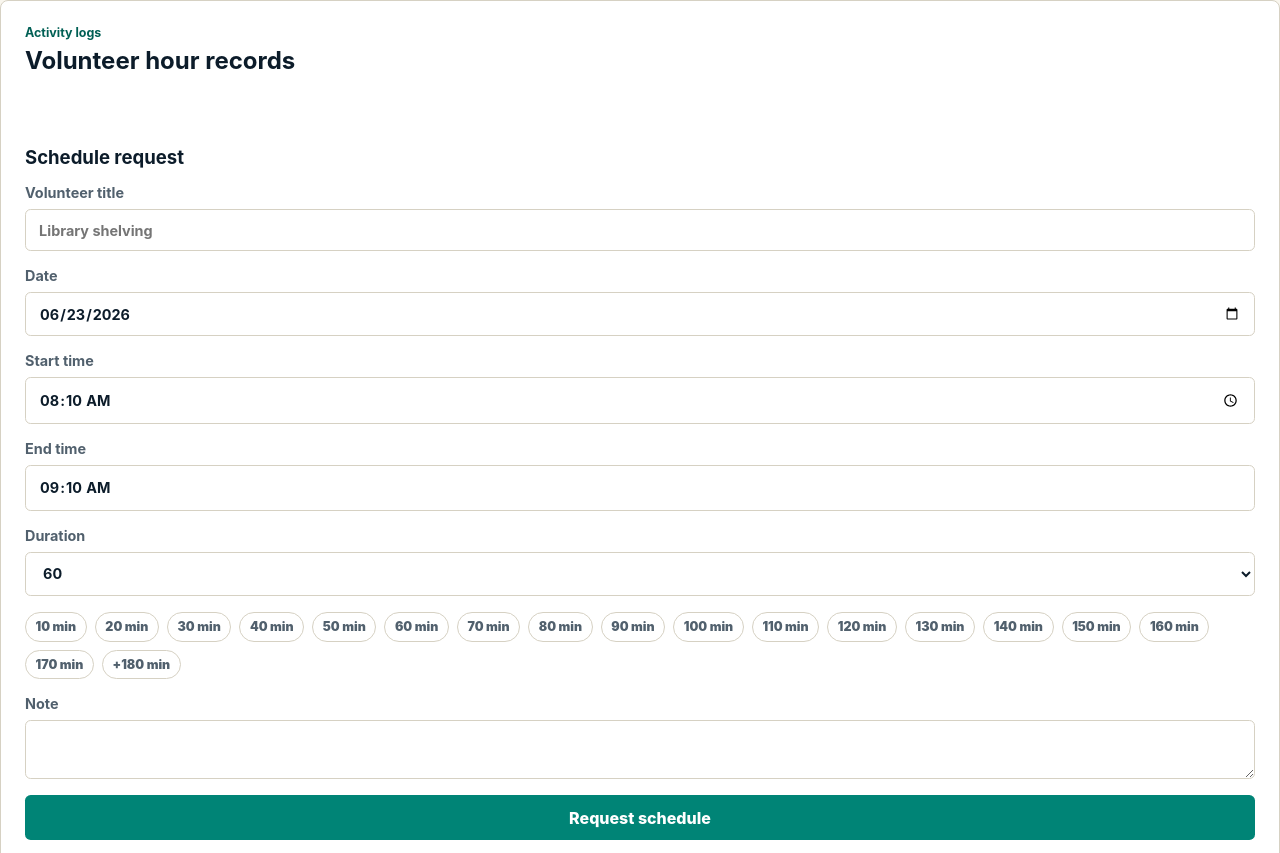
Test: ActivityLogsScreen › does not submit a schedule request without a title
Step 1. Click the button "Request schedule" → [640, 818], box top-left (25, 795), bottom-right (1255, 840)
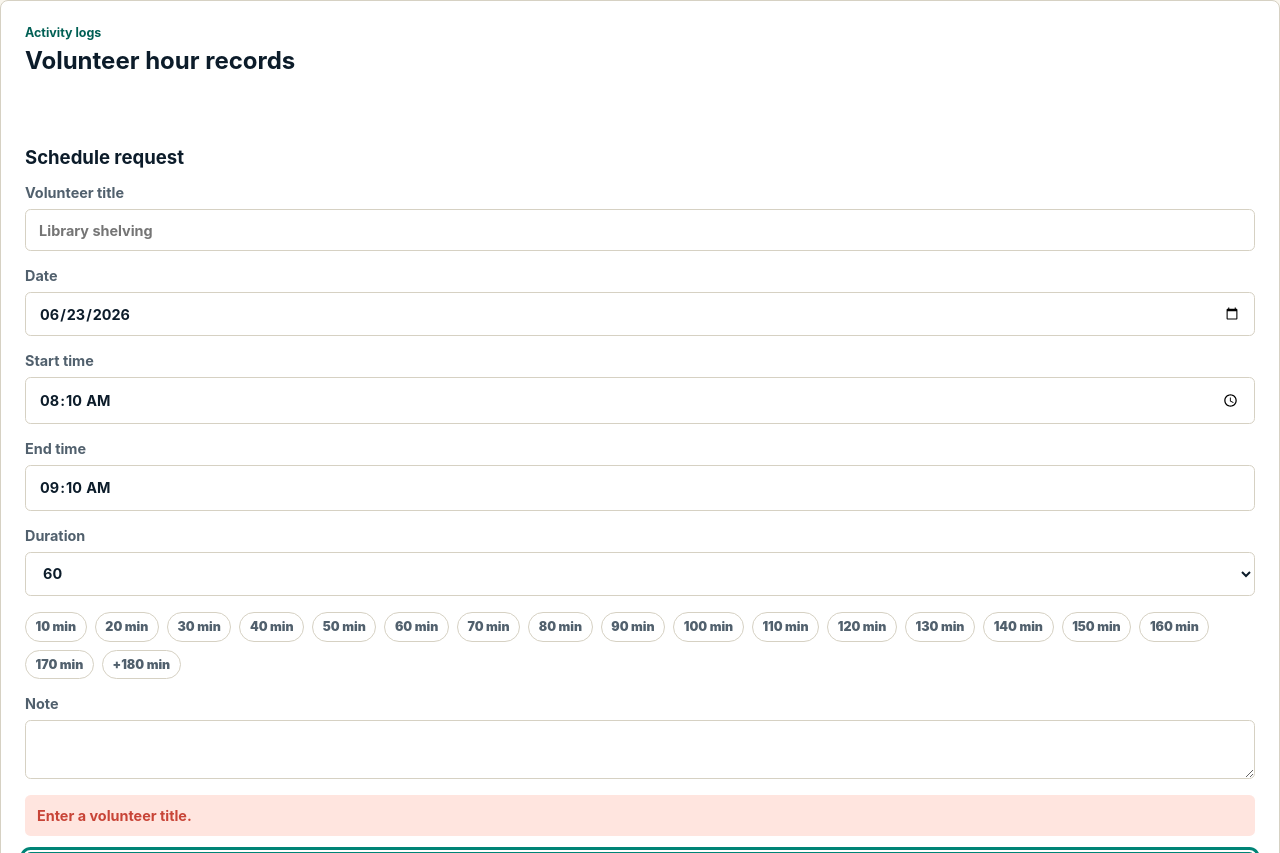
Check: the text "Enter a volunteer title." is shown, box top-left (25, 795), bottom-right (1255, 836)
